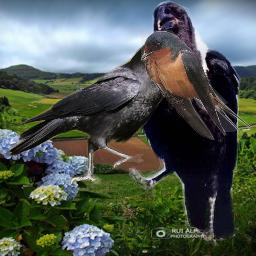Crow: (9, 35, 194, 186), (129, 0, 241, 246)
Swallow: (141, 30, 250, 140)
